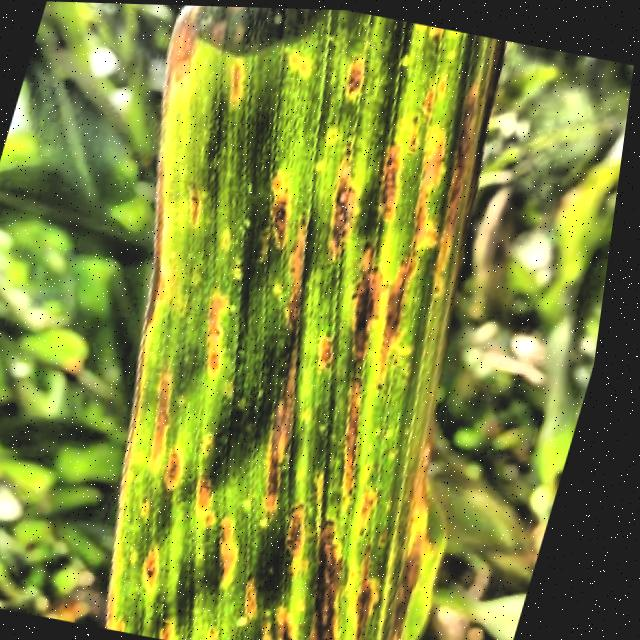common_rust: (90, 6, 501, 640)
